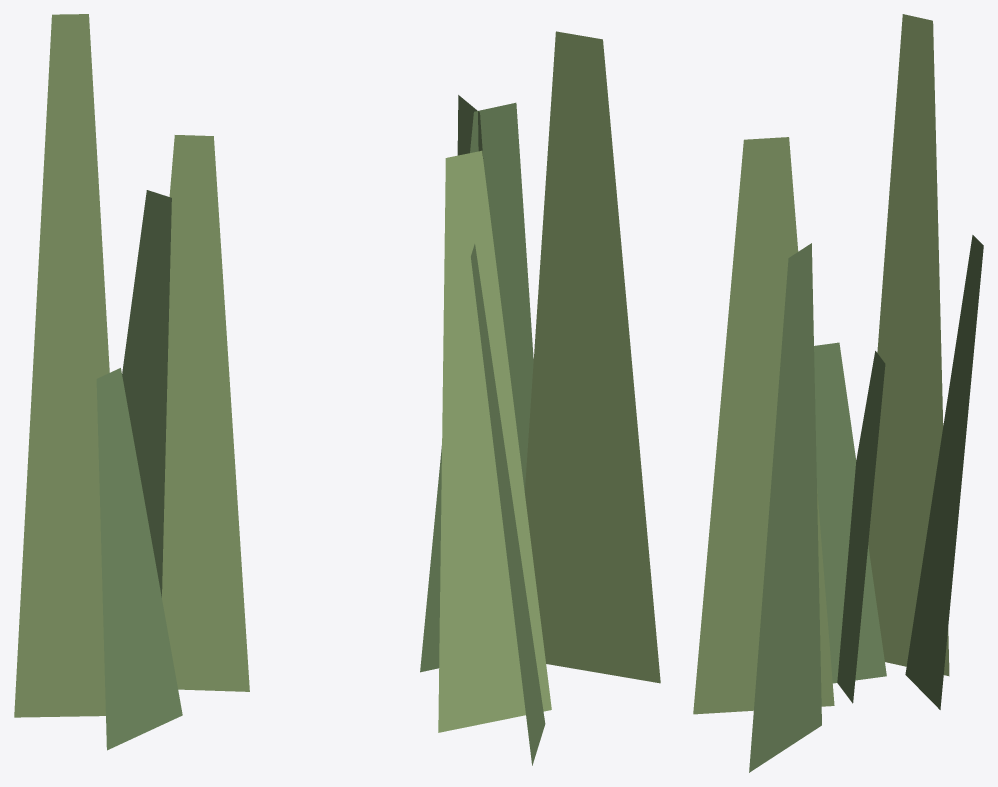
The model's file is nong.mai@subadult__spring.glb.
3 views of the same model, side by side, from view 1: azimuth 30°, elevation 25°; view 2: azimuth 150°, elevation 25°; view 3: azimuth 270°, elevation 25° (orthographic). The views are drawn at different scales.
Visible parts, largest first — view 1: nong.mai@subadult__spring; view 2: nong.mai@subadult__spring; view 3: nong.mai@subadult__spring.
Boxes of the visible parts, x1=… form: nong.mai@subadult__spring: x1=14, y1=14, x2=249, y2=750; nong.mai@subadult__spring: x1=420, y1=31, x2=660, y2=765; nong.mai@subadult__spring: x1=693, y1=14, x2=983, y2=772.
Size of the model in its own units: 0.2109 by 0.4917 by 0.2037.
